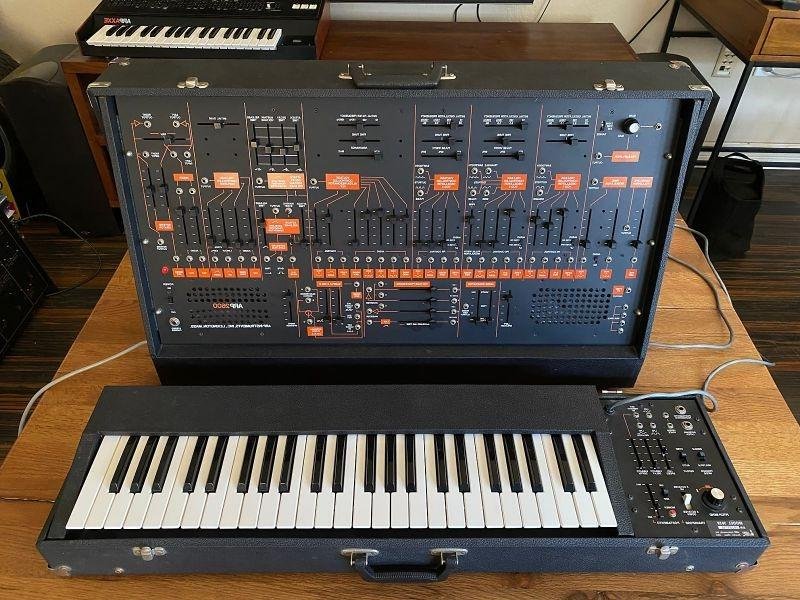synthesizer: (29, 76, 782, 578)
